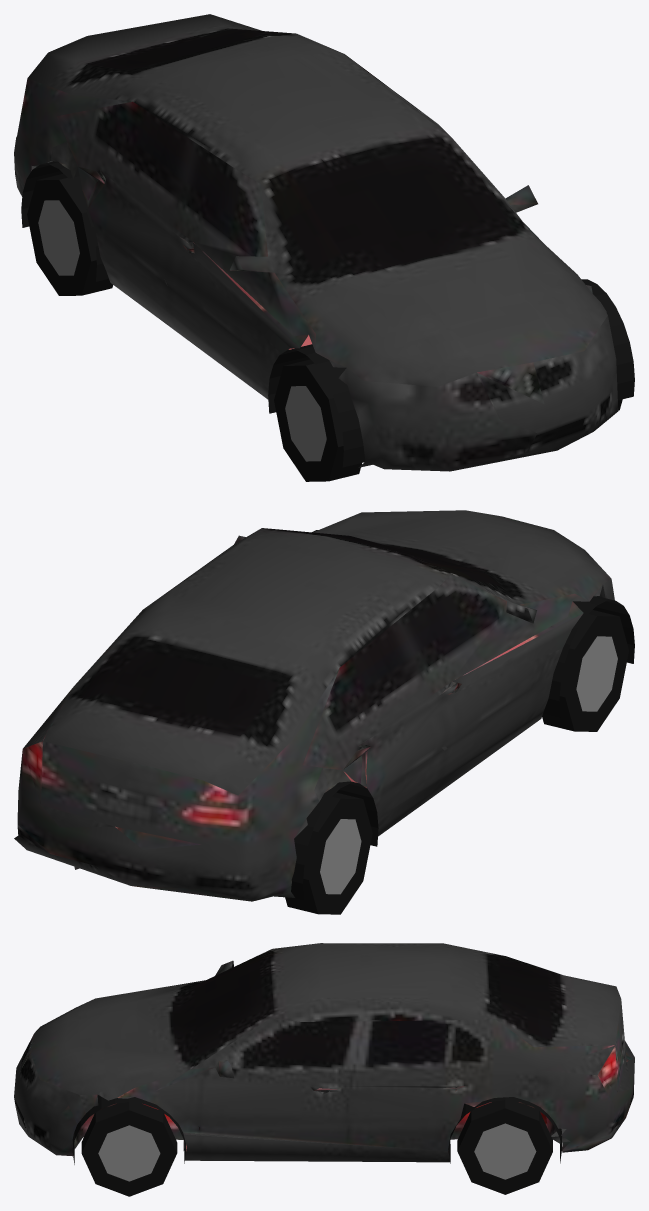
Rendered from saloon-black-far.glb.
3 views of the same model, one above another, from view 1: azimuth 30°, elevation 25°; view 2: azimuth 150°, elevation 25°; view 3: azimuth 270°, elevation 25° (orthographic). The views are drawn at different scales.
Visible parts, largest first — view 1: saloon-far; view 2: saloon-far; view 3: saloon-far.
Part boxes in pixels (x1,y1,x2,y2): saloon-far: (14, 14, 634, 481); saloon-far: (14, 510, 634, 914); saloon-far: (14, 943, 634, 1196).
Size of the model in its own units: 1.89 by 1.4 by 4.5.
1 material, 1 textured.
